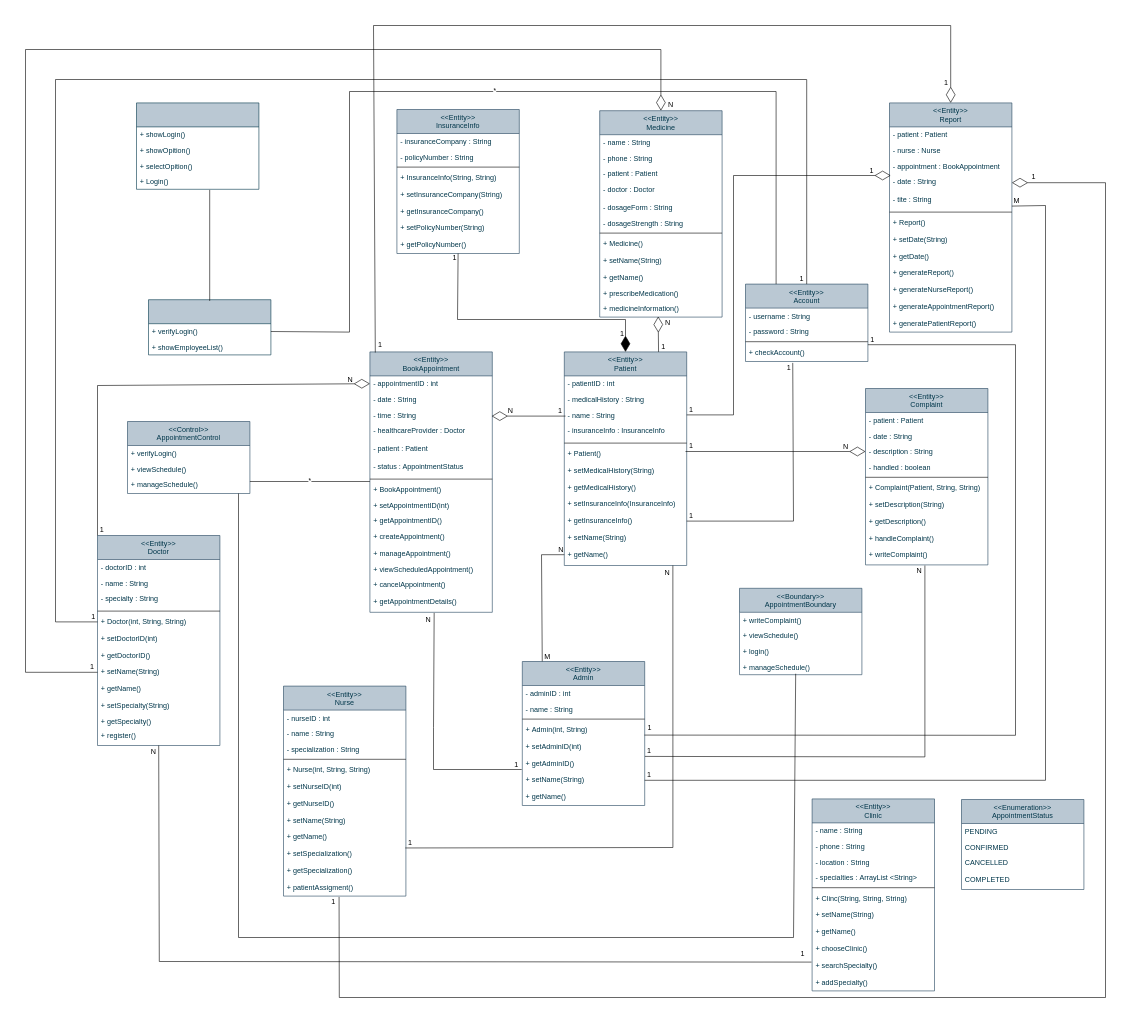
Image size: 1132x1024. Some labels were removed from this diagram. The shapes that lost their labels are listed below. From the top down, each one's box as (x1, y1, x2, y2) in pixels, then its label:
(136, 102, 259, 189): <<Boundary>> SystemBoundary
(148, 299, 271, 355): <<Control>> ViewEmployeeList
